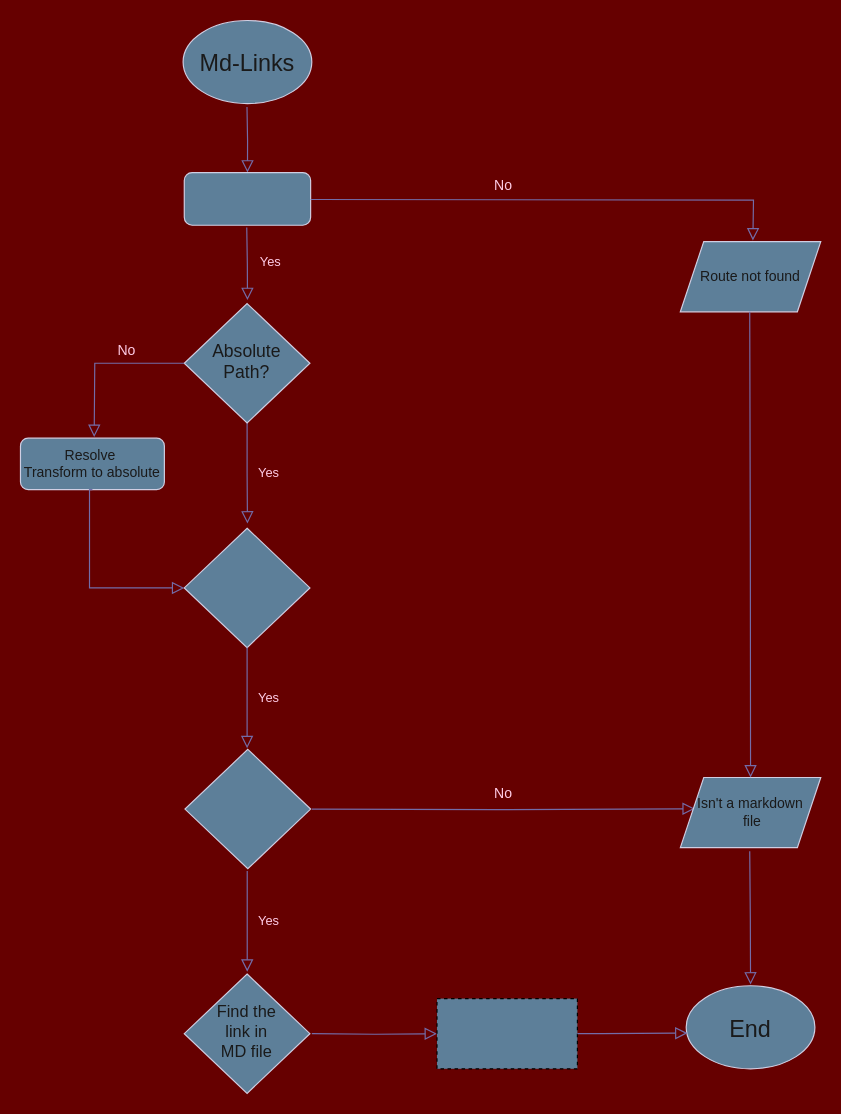
Some shapes in this 841 by 1114 pixel diagram are drawn without their labels. The shapes that lost their labels are listed below. From the top down, each one's centre as x and y in pixels, then its label:
At (247,198): "Find Path".
At (246,587): "This path exist?".
At (247,808): "It is a markdown file?".
At (506,1033): "Create an object with array".
